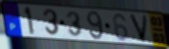1: (23, 6, 37, 37)
3: (65, 10, 83, 38), (43, 9, 60, 37)
6: (112, 12, 130, 42)
9: (85, 10, 105, 41)
V: (128, 12, 149, 44)
